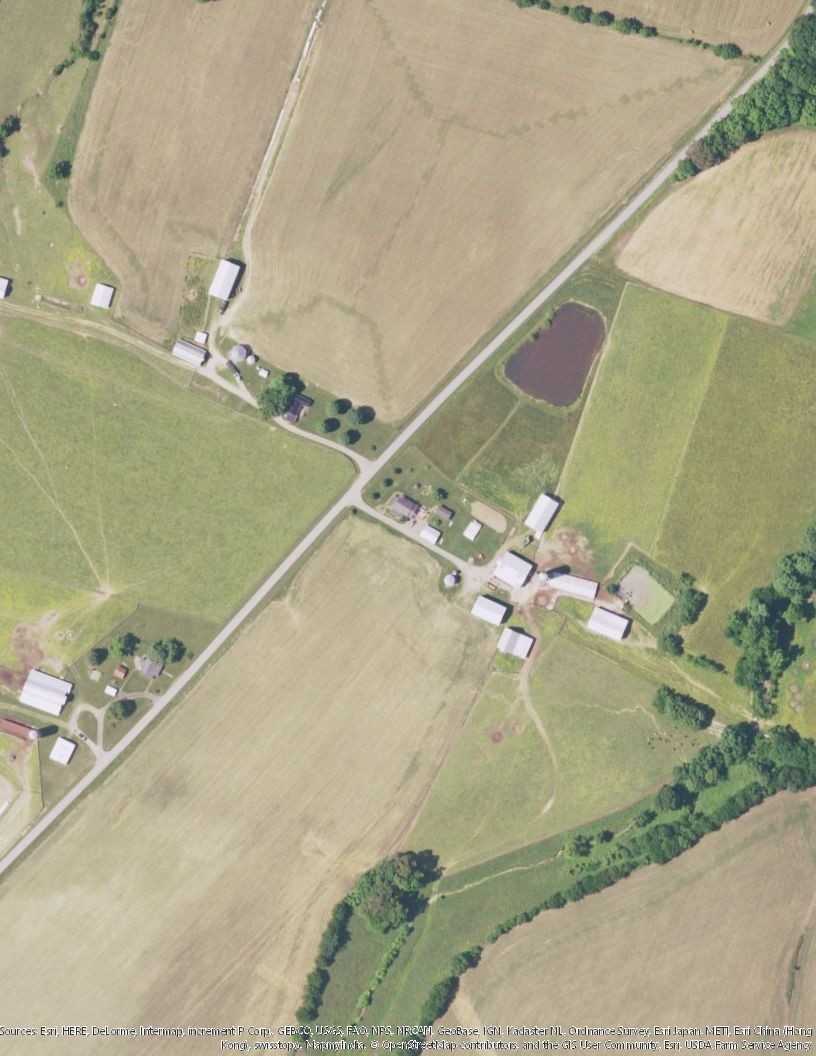cafo: (15, 663, 75, 719), (543, 563, 607, 599), (587, 606, 637, 640), (496, 548, 536, 589), (207, 257, 244, 300), (529, 489, 561, 537), (166, 330, 212, 362), (495, 626, 538, 659), (466, 594, 506, 626)
